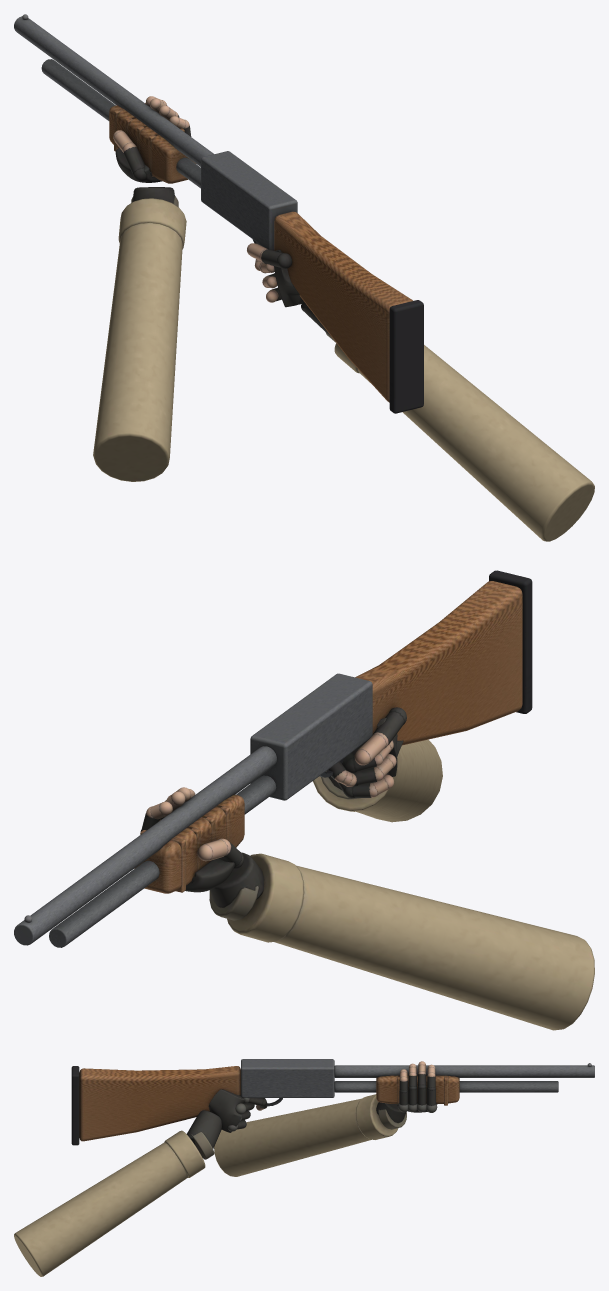
File: pump.glb
3 views of the same model, one above another, from view 1: azimuth 30°, elevation 25°; view 2: azimuth 150°, elevation 25°; view 3: azimuth 270°, elevation 25° (orthographic). The views are drawn at different scales.
Parts seen in each view (by area): view 1: hænder, pump; view 2: hænder, pump; view 3: hænder, pump.
Part boxes in pixels (x1,y1,x2,y2): hænder: (93, 96, 594, 541); pump: (14, 14, 423, 413); hænder: (140, 707, 594, 1030); pump: (14, 570, 532, 947); hænder: (14, 1061, 437, 1276); pump: (71, 1059, 594, 1145).
Size of the model in its own units: 0.5162 by 0.371 by 1.12.
2 materials, 2 textured.
